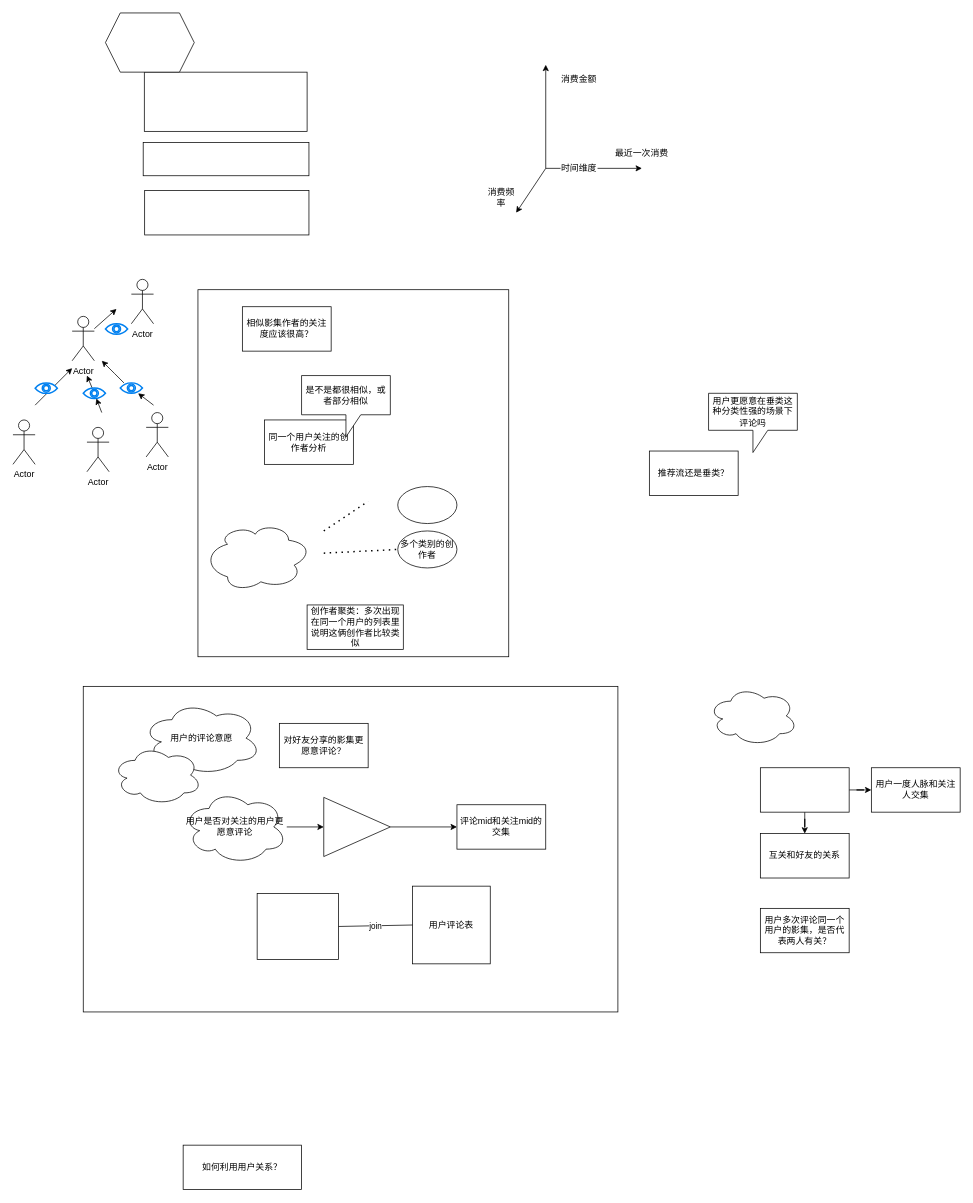
Image size: 973x1203. Some labels were removed from this diagram. The centre of each missing label's shape, as x and y in pixels:
"可能有用的尝试" belongs at [149,42].
"同一个用户的关注可能有的种类" belongs at [260,556].
"好友" belongs at [427,505].
"用户会关注自己的好友吗" belongs at [804,789].
"用户关注行为思考" belongs at [752,716].
"用户关注表" belongs at [297,926].
"用户评论影集中，是用户关注的创作者发布的影集占比" belongs at [356,827].
"给用户推荐用户评论过相似的高评论影集" belongs at [225,159].
"设计一个推荐流，监听用户关注用户发布影集情况，关注用户发布后将发布的新影集插入到推荐流" belongs at [225,101].
"评论与关注的关系" belongs at [157,775].
"高评论用户设计推荐，用户喜欢的影集中评论率高的影集" belongs at [226,212].
